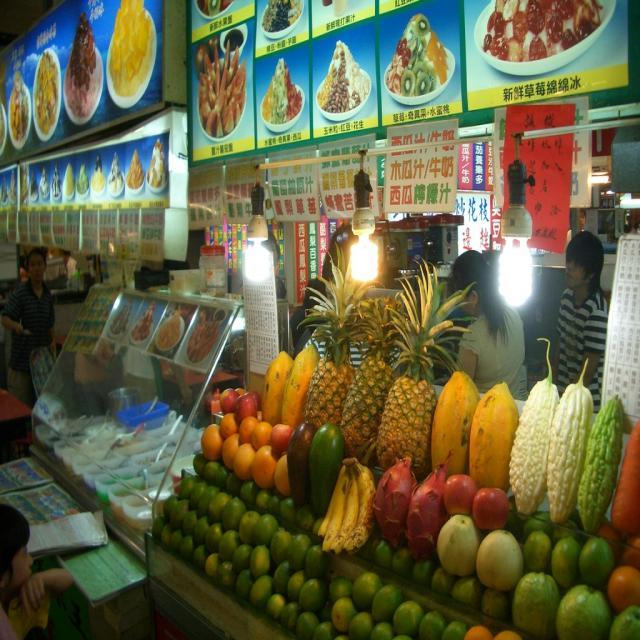Pineapple: (386, 258, 478, 472), (297, 240, 381, 428), (350, 294, 395, 458)
